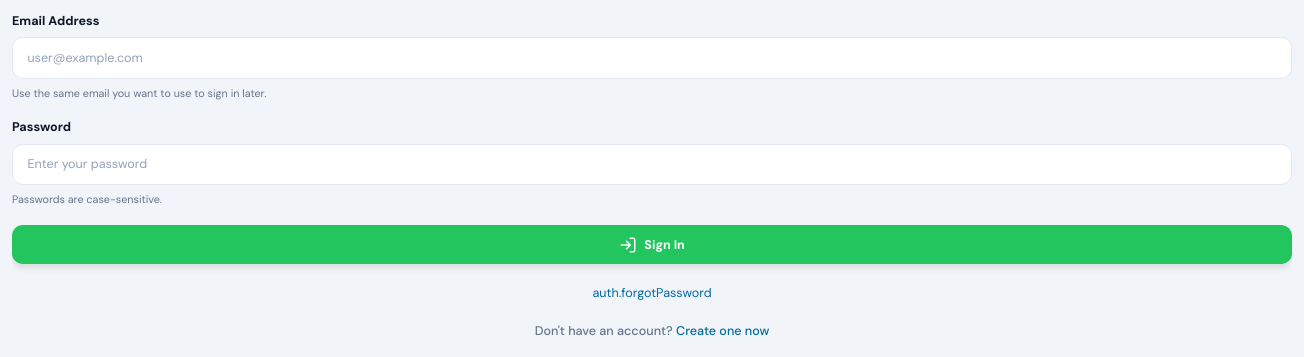
Test case: LoginPage › shows validation errors for an invalid email and missing password
Type "invalid-email" into the field labelled "Email Address".
click(652, 58); type("invalid-email")  # box [12,37,1292,79]
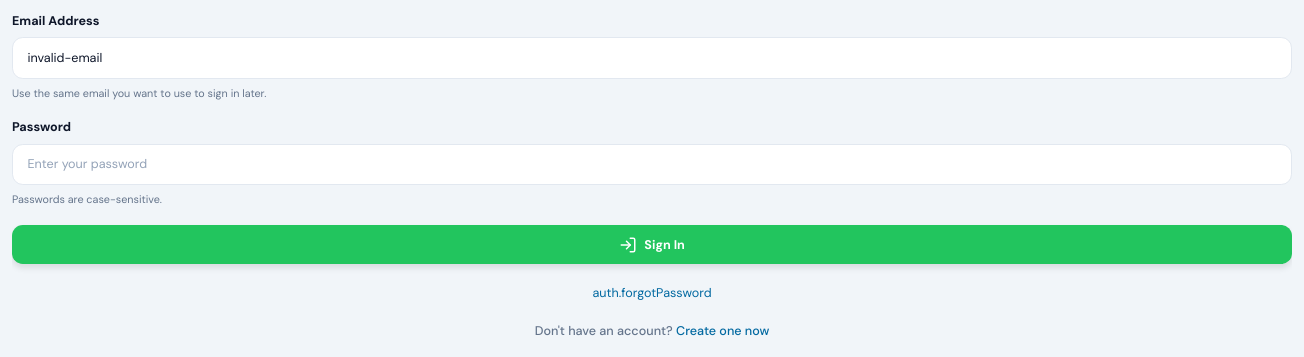
Submit the form "sign in"
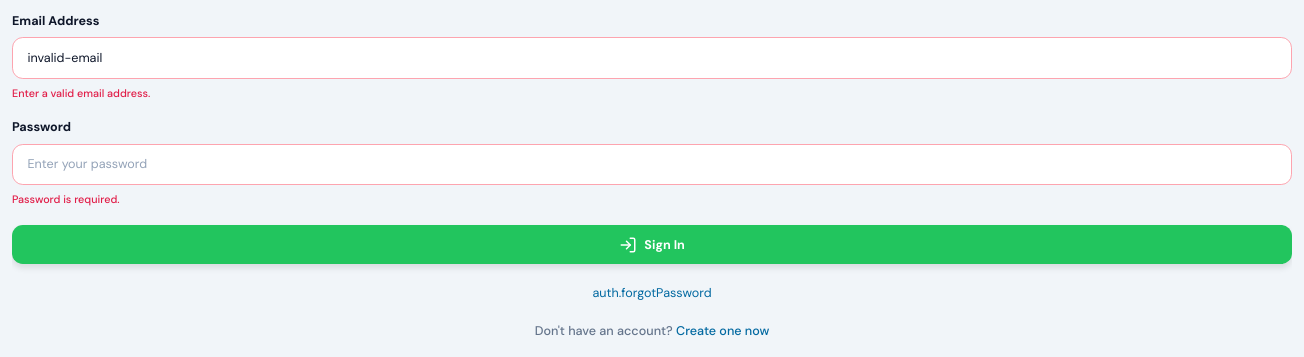
Now the text "Enter a valid email address." is shown, box [12,86,150,100]
Now the text "Password is required." is shown, box [12,192,120,206]
